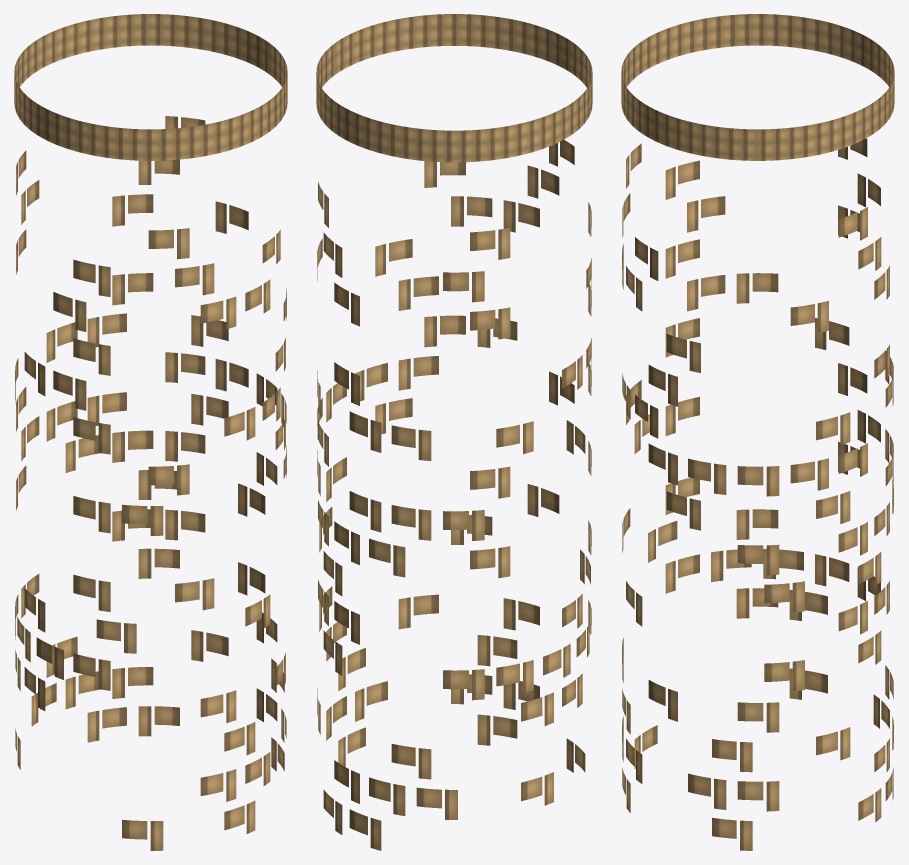
Rendered from romanita_lights.obj.
3 renders of one model, left to right at view 1: azimuth 30°, elevation 25°; view 2: azimuth 150°, elevation 25°; view 3: azimuth 270°, elevation 25°, orthographic.
Visible parts, largest first — view 1: Lit_WindowLit; view 2: Lit_WindowLit; view 3: Lit_WindowLit.
Part boxes in pixels (left/top/right/bottom): Lit_WindowLit: left=14, top=14, right=287, bottom=850; Lit_WindowLit: left=316, top=14, right=592, bottom=850; Lit_WindowLit: left=621, top=14, right=894, bottom=850.
Bounding box in the file's own units: 18.86 × 55 × 18.86.
Materials: 1 (1 with a texture image).
